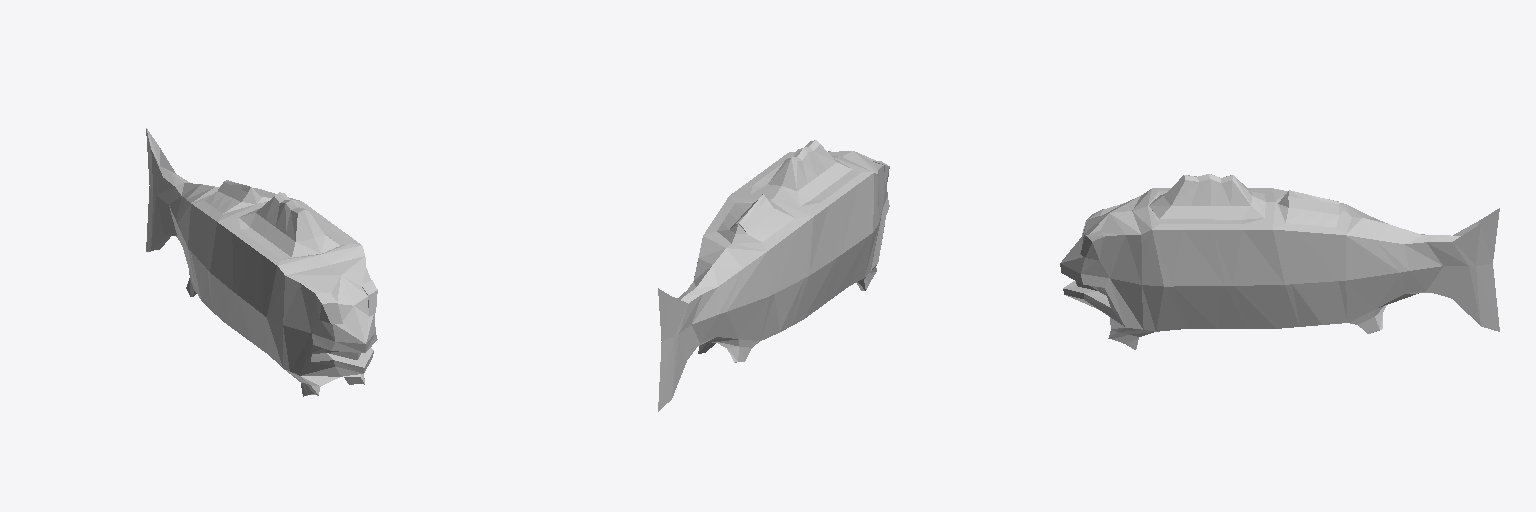
File: fish.obj
3 renders of one model, left to right at view 1: azimuth 30°, elevation 25°; view 2: azimuth 150°, elevation 25°; view 3: azimuth 270°, elevation 25°, orthographic.
Visible parts, largest first — view 1: Cube_Cube.001; view 2: Cube_Cube.001; view 3: Cube_Cube.001.
Part boxes in pixels (x1,y1,x2,y2): Cube_Cube.001: (146,128,377,396); Cube_Cube.001: (658,140,889,411); Cube_Cube.001: (1060,174,1499,349).
Bounding box in the file's own units: 1.81 × 3.01 × 7.29.